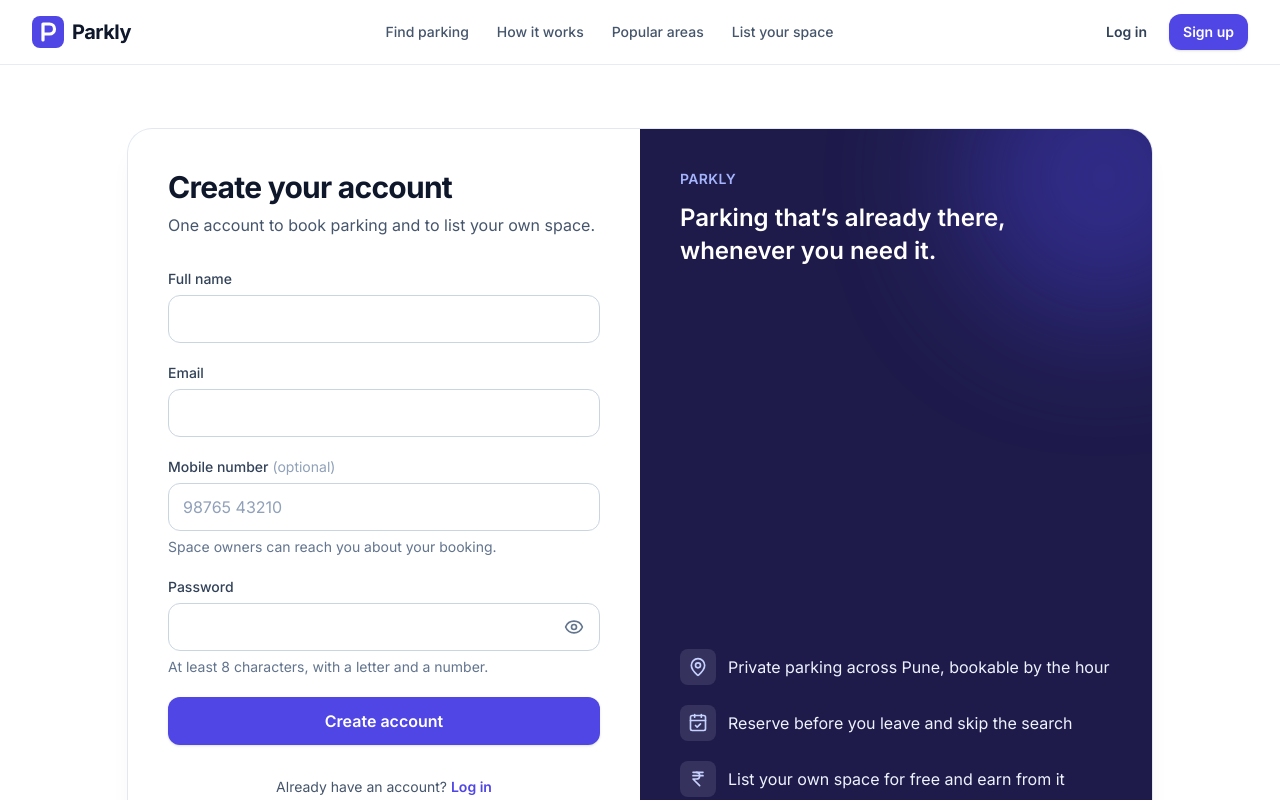
Scenario: Signup › requires a password with a letter and a number
In the field labelled "Full name": (384, 319) top-left (168, 295), bottom-right (600, 343), type "Priya Deshmukh"
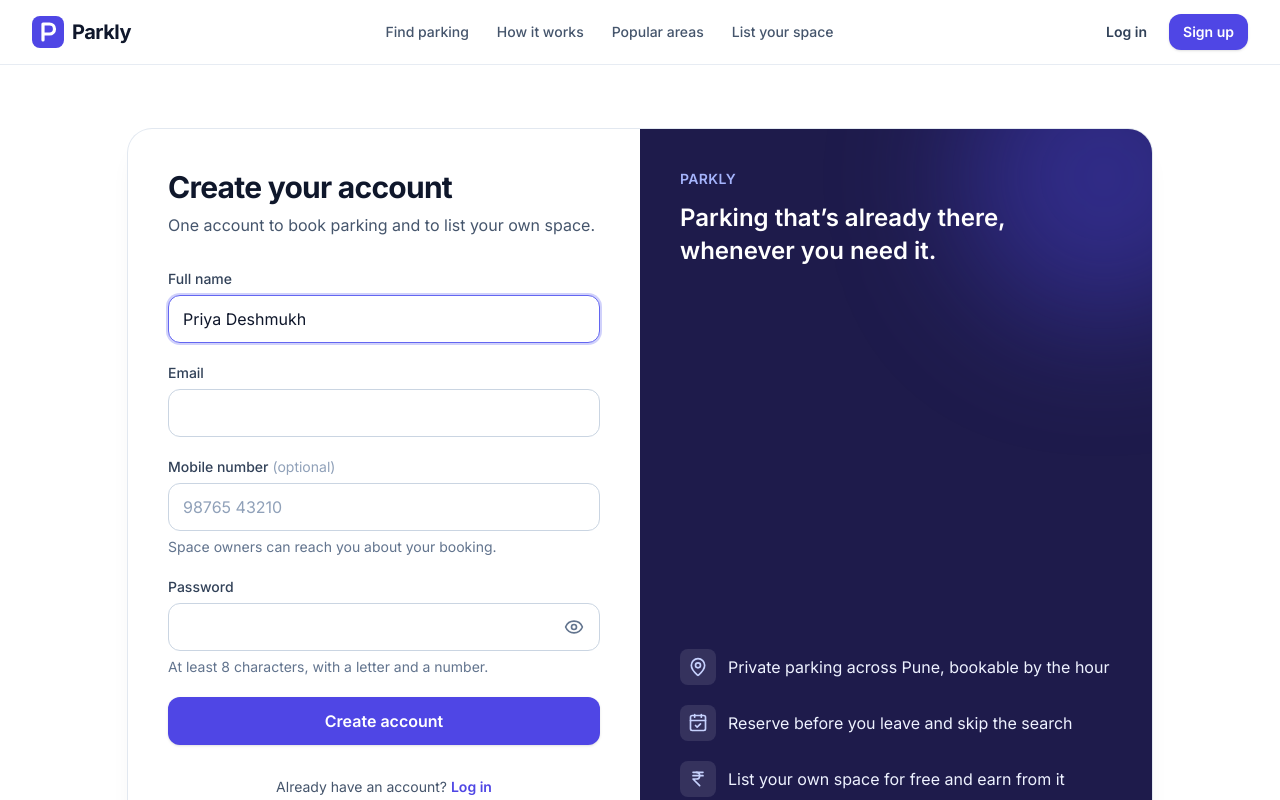
In the field labelled "Email": (384, 413) top-left (168, 389), bottom-right (600, 437), type "priya@example.com"
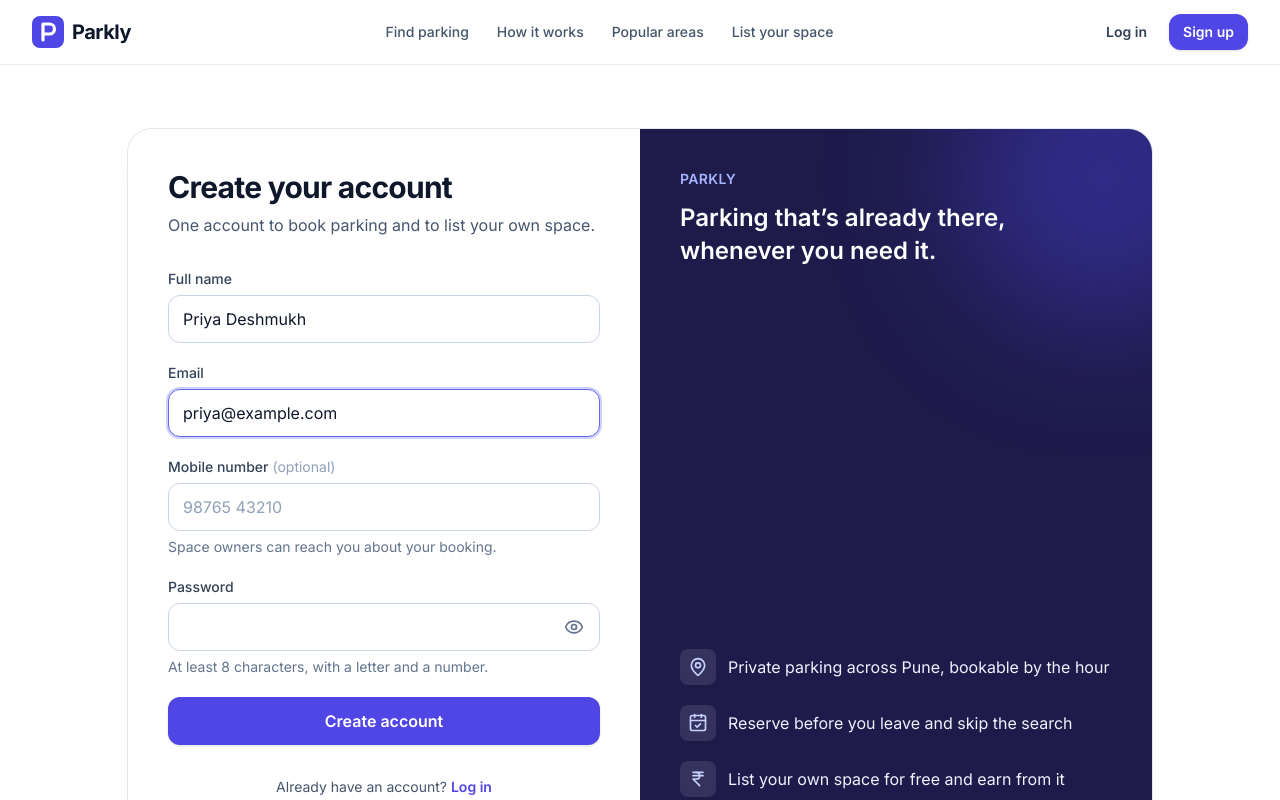
In the password field labelled "Password": (384, 627) top-left (168, 603), bottom-right (600, 651), type "onlyletters"
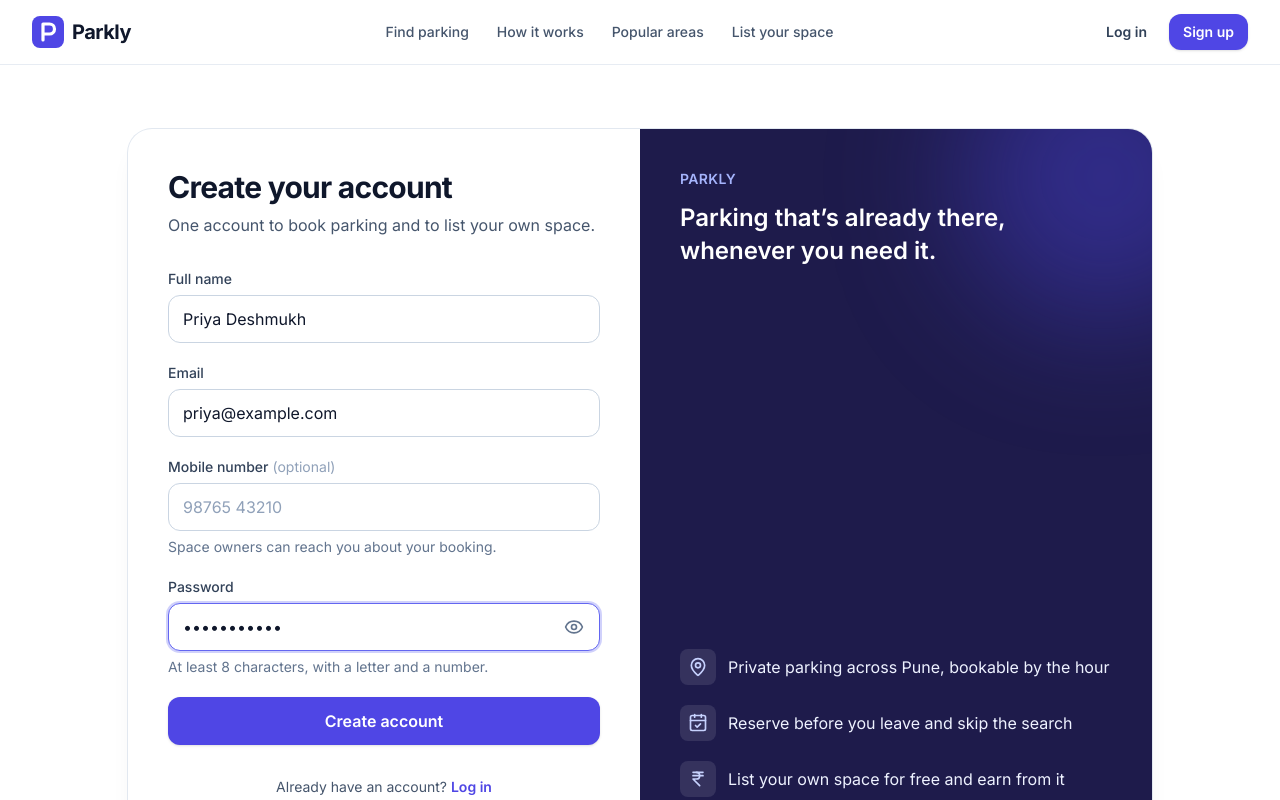
Click the button "Create account": (384, 721) top-left (168, 697), bottom-right (600, 745)
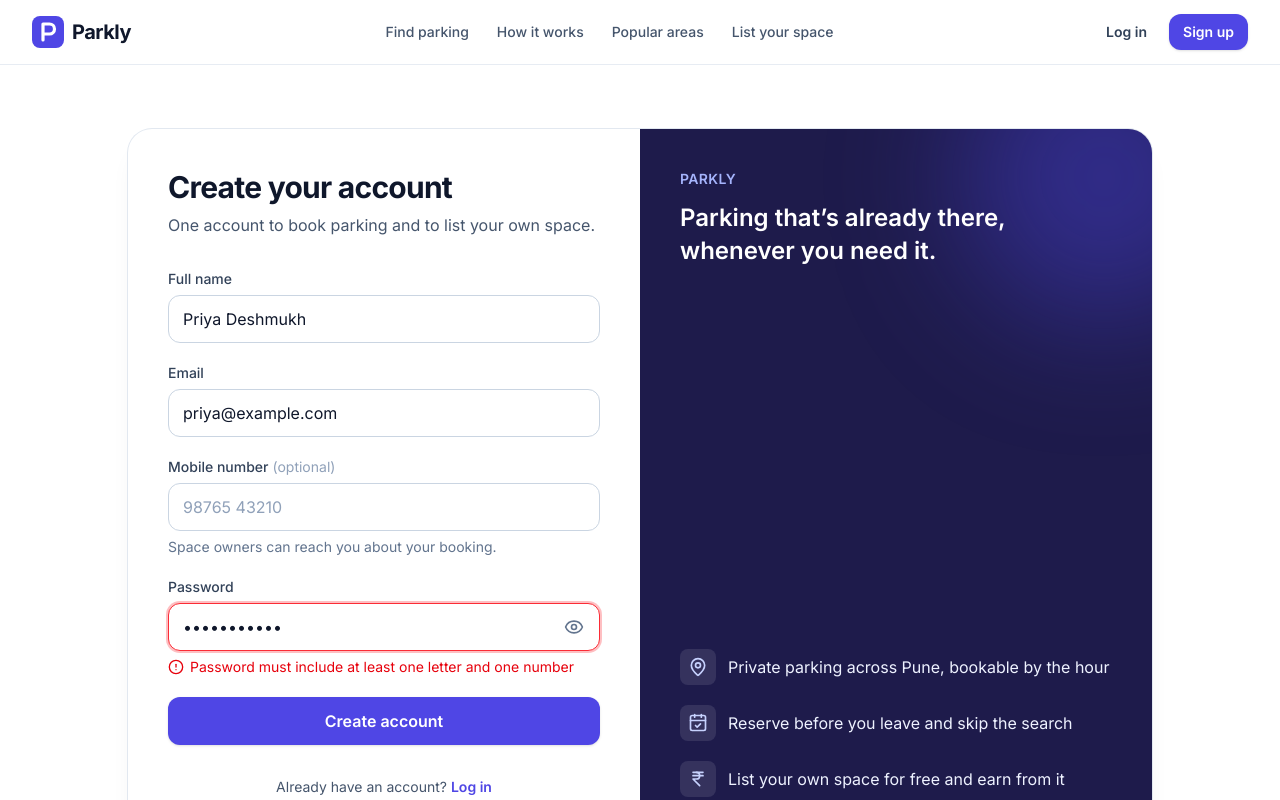
expect the text "Password must include at least one letter and one number" is shown: met, box top-left (168, 657), bottom-right (600, 677)
